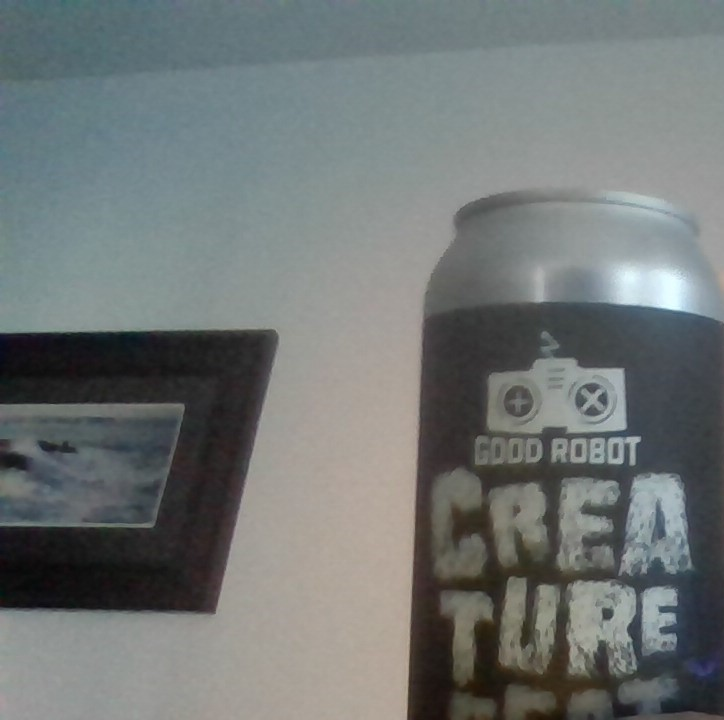Good Robot: (477, 329, 631, 435)
